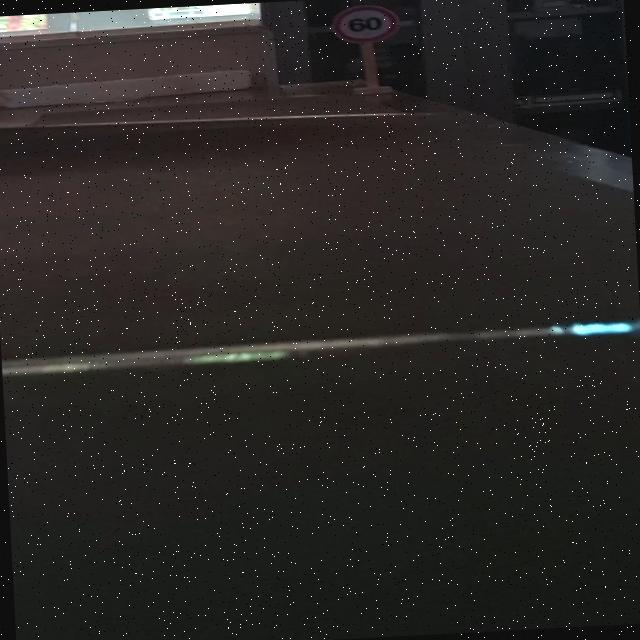Speed60: (330, 2, 401, 46)
